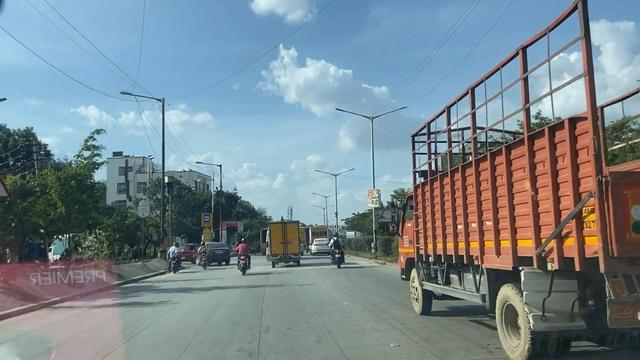HMV: (387, 4, 640, 352), (261, 219, 306, 268)
LMV: (326, 231, 348, 271), (233, 231, 251, 279)
